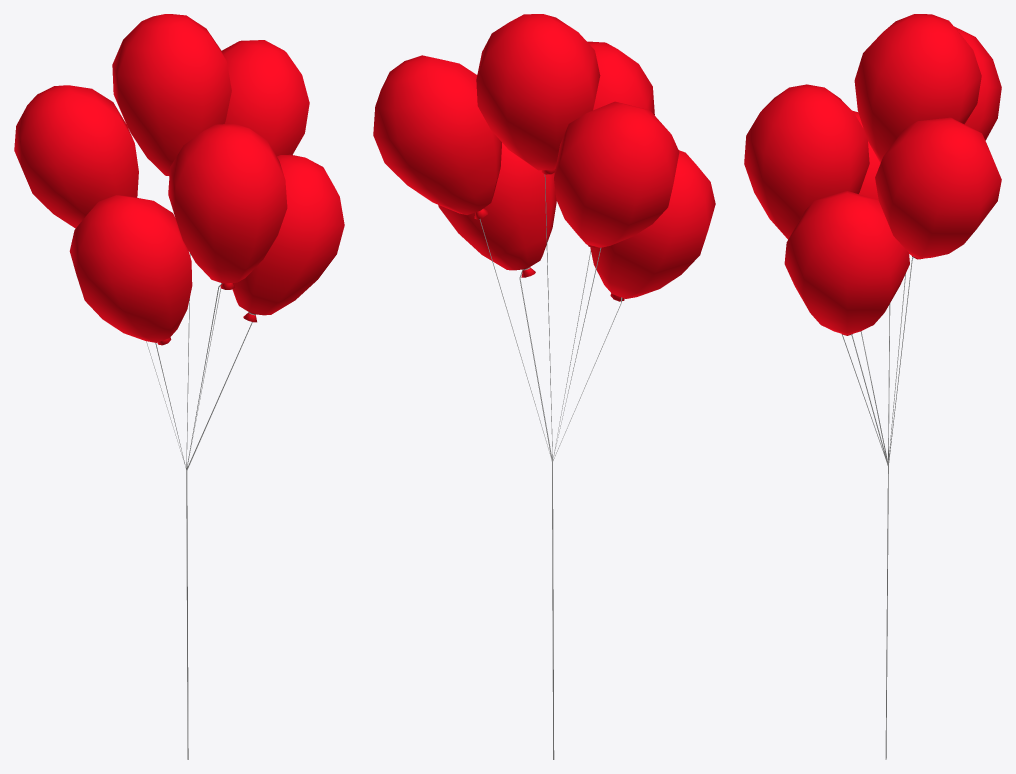
File: BalloonBunchRed.glb
3 renders of one model, left to right at view 1: azimuth 30°, elevation 25°; view 2: azimuth 150°, elevation 25°; view 3: azimuth 270°, elevation 25°, orthographic. The views are drawn at different scales.
Parts seen in each view (by area): view 1: BalloonBunchRed; view 2: BalloonBunchRed; view 3: BalloonBunchRed.
Part boxes in pixels (bbox=[...]): BalloonBunchRed: bbox=[14, 14, 344, 759]; BalloonBunchRed: bbox=[373, 14, 715, 759]; BalloonBunchRed: bbox=[744, 14, 1001, 759].
Bounding box in the file's own units: 1.32 × 3.26 × 1.03.
Materials: 1 (1 with a texture image).
